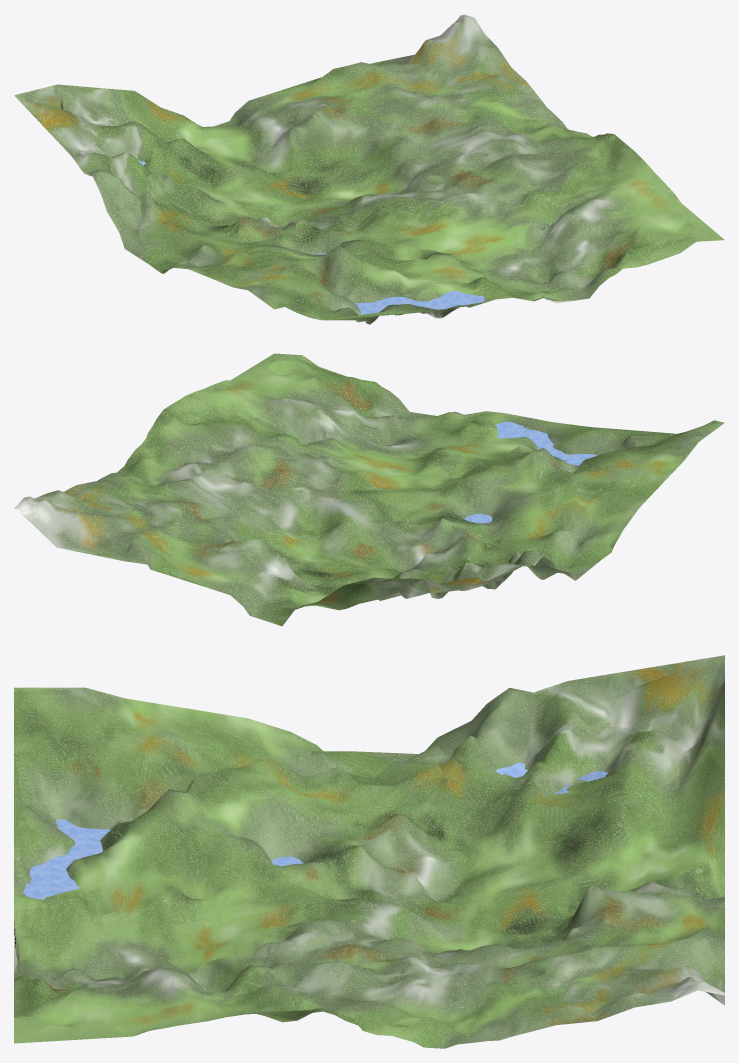
The model's file is hillblender.dae.
3 renders of one model, top to bottom at view 1: azimuth 30°, elevation 25°; view 2: azimuth 150°, elevation 25°; view 3: azimuth 270°, elevation 25°, orthographic. The views are drawn at different scales.
Parts seen in each view (by area): view 1: group_1_001, instance_0_003; view 2: group_1_001, instance_0_003; view 3: group_1_001, instance_0_003.
Part boxes in pixels (x1,y1,x2,y2): group_1_001: [14, 14, 724, 324]; instance_0_003: [355, 290, 484, 314]; group_1_001: [14, 353, 724, 626]; instance_0_003: [494, 422, 597, 465]; group_1_001: [14, 655, 724, 1048]; instance_0_003: [22, 819, 110, 899].
Size of the model in its own units: 238 by 238 by 50.56.
4 materials, 3 textured.
